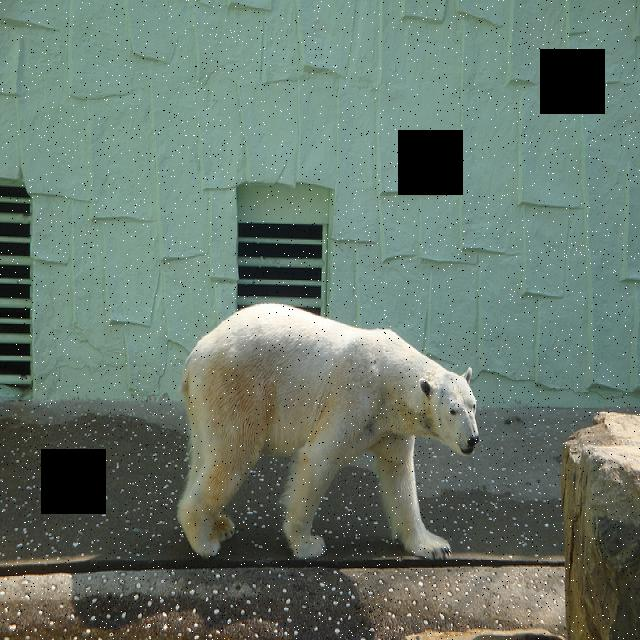Bear: (159, 290, 486, 574)
